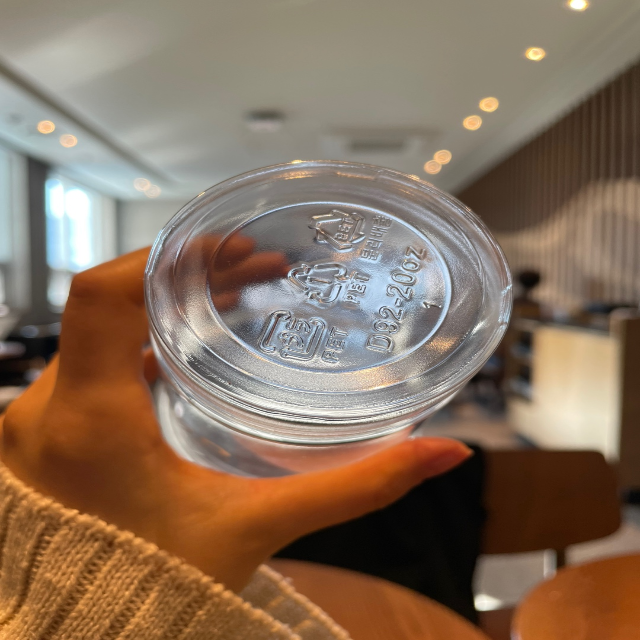pet: (251, 303, 352, 373), (281, 252, 372, 312), (307, 203, 395, 265)
